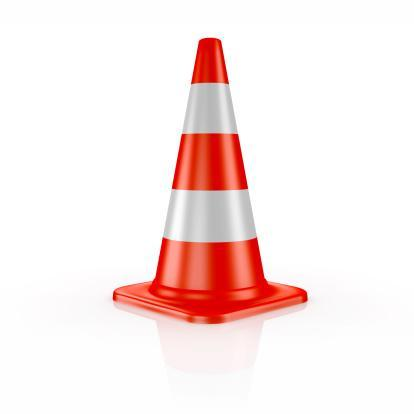Cone: (118, 39, 305, 318)
